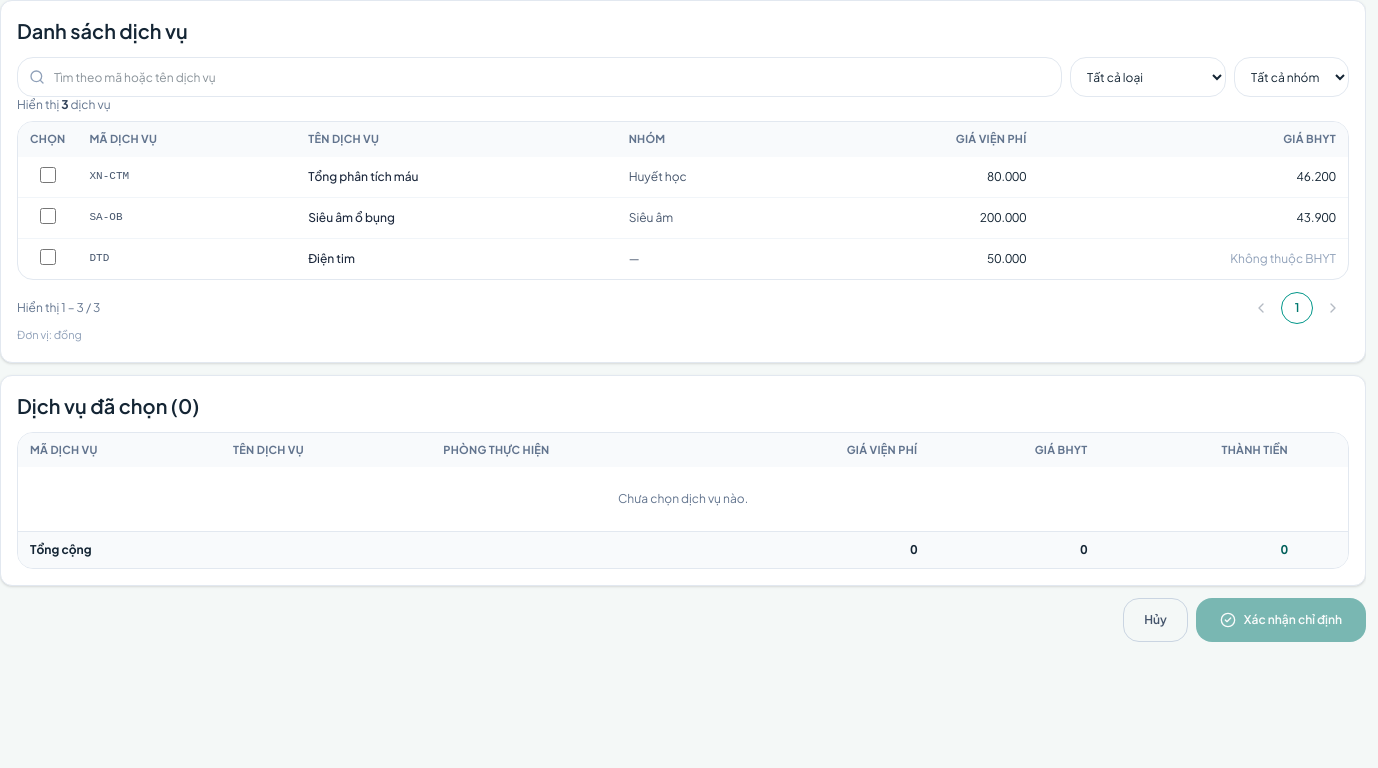
Scenario: ParaclinicalOrderPanel (UC-49) › removes a selected service from the selection table
The image size is (1378, 768).
Click the checkbox named "Chọn Điện tim" at (48, 257), box [40,249,56,265]
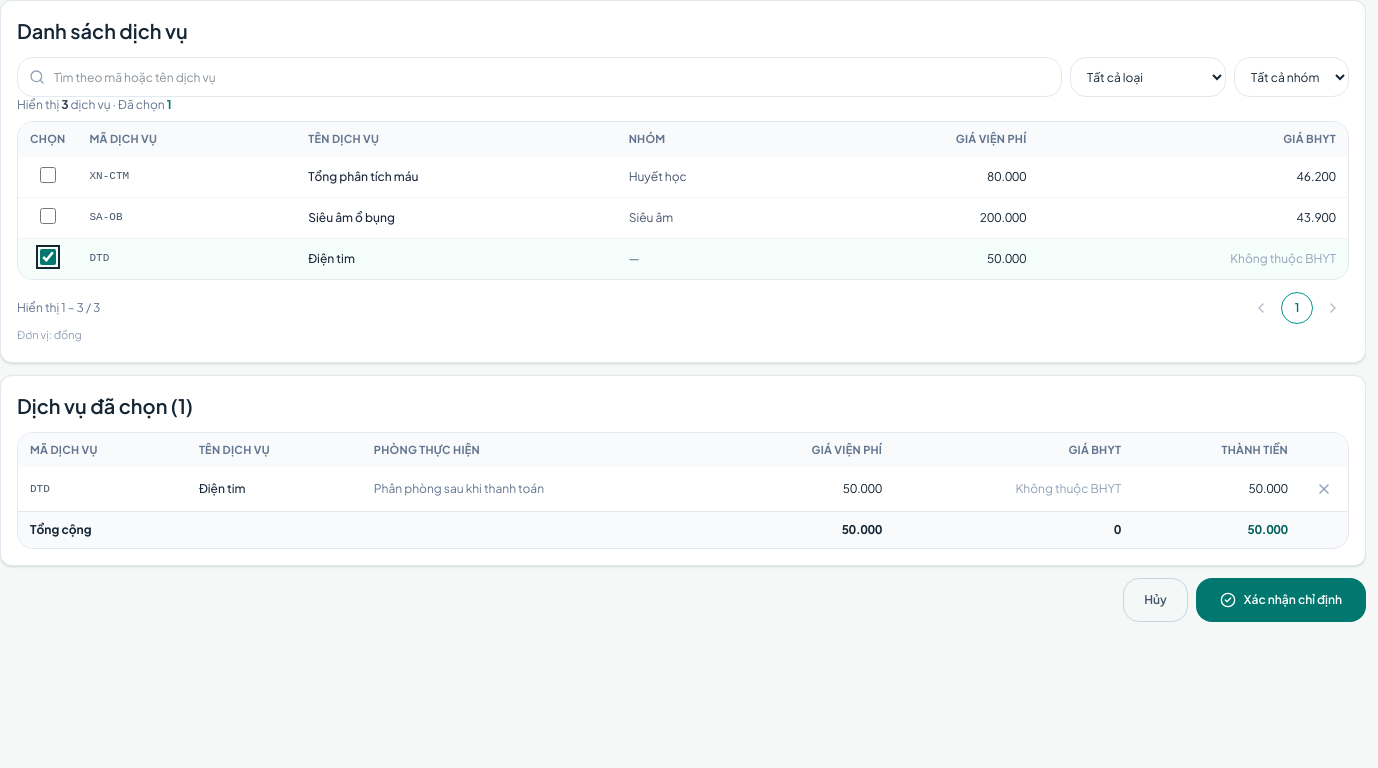
Click the button named "Gỡ Điện tim" at (1324, 489), box [1312,477,1336,501]
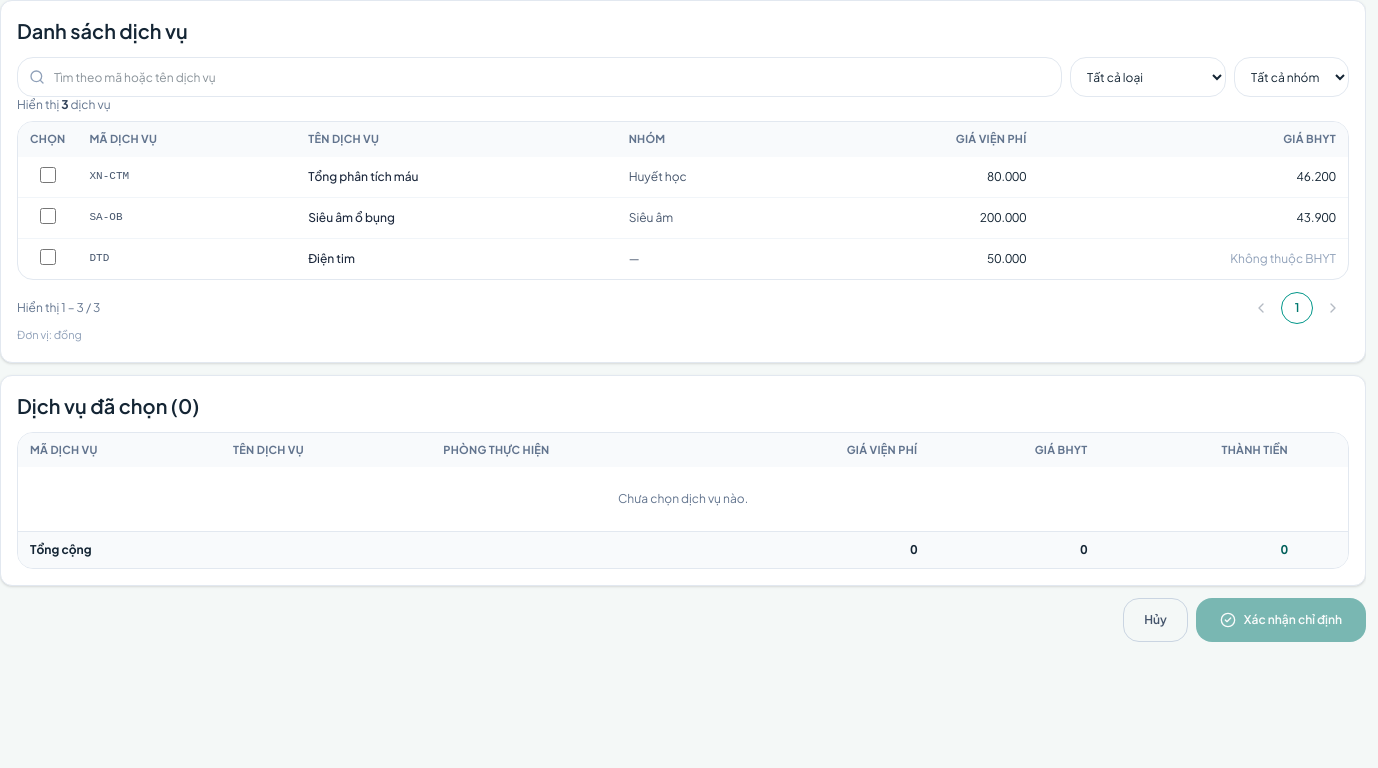
Expected: the checkbox named "Chọn Điện tim" is not checked, [40,249,56,265]
Expected: the text "Chưa chọn dịch vụ nào." is shown, [18,467,1348,532]
